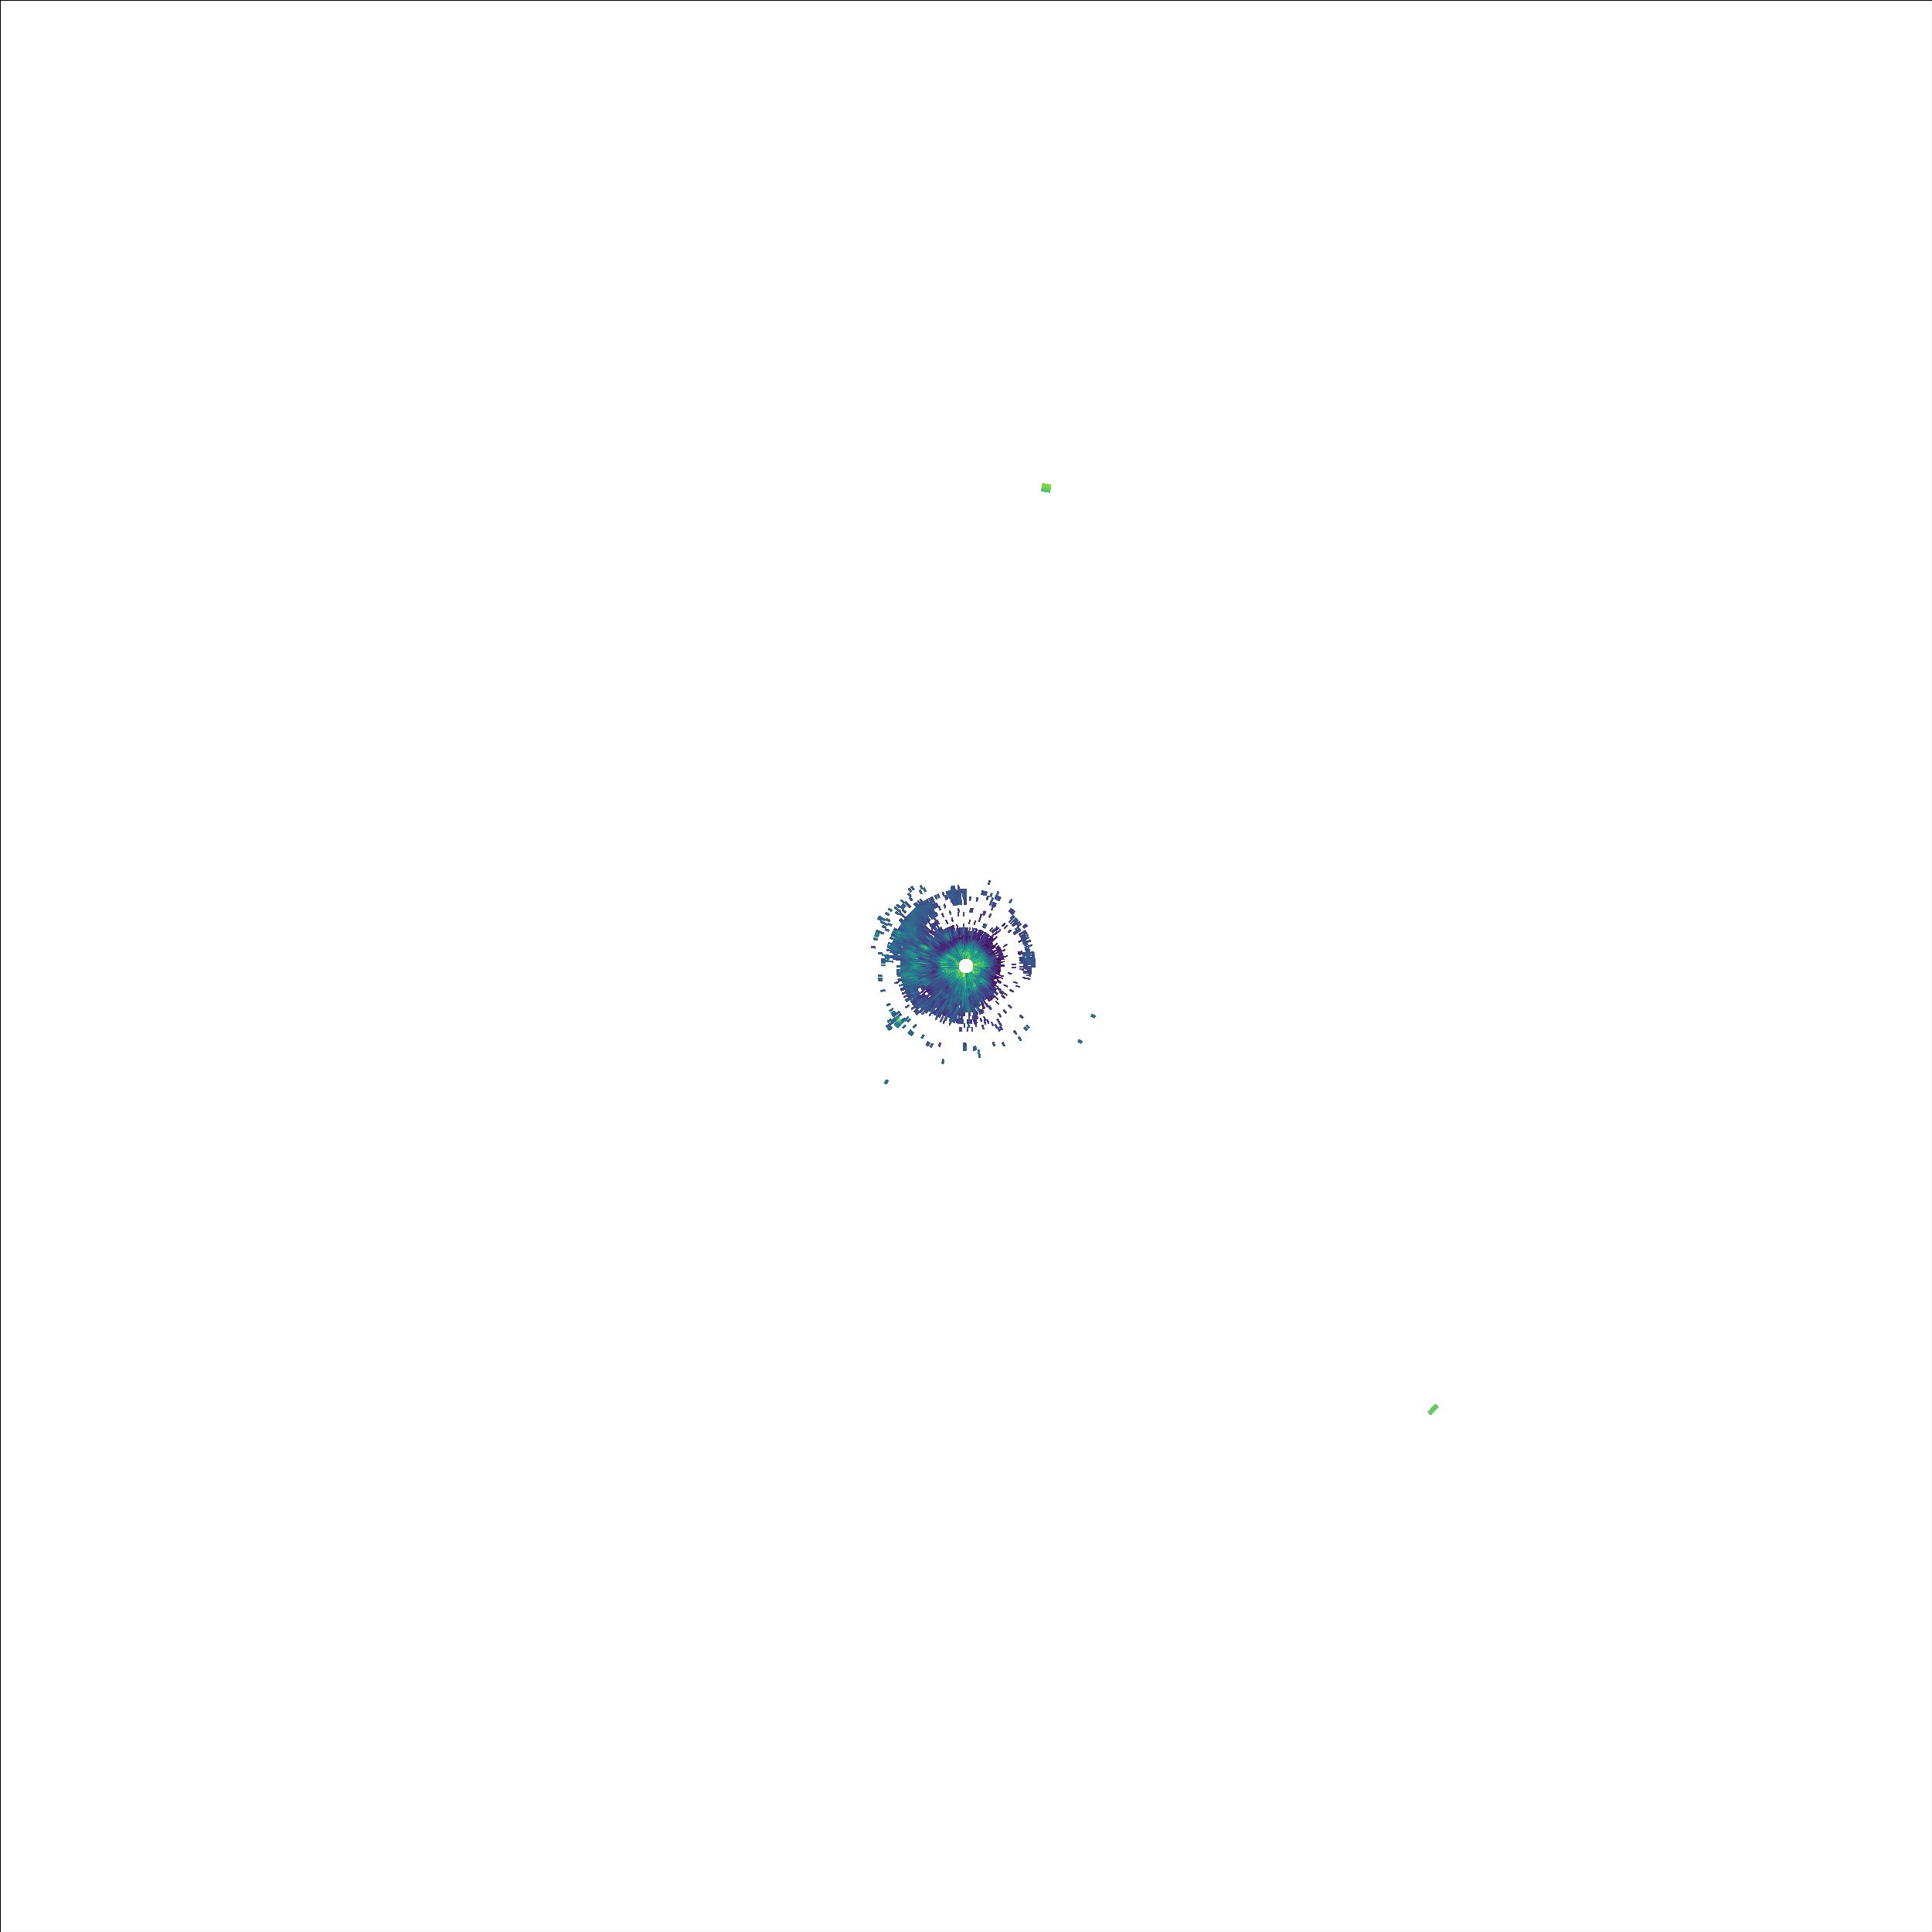fall: (1033, 471, 1060, 501)
